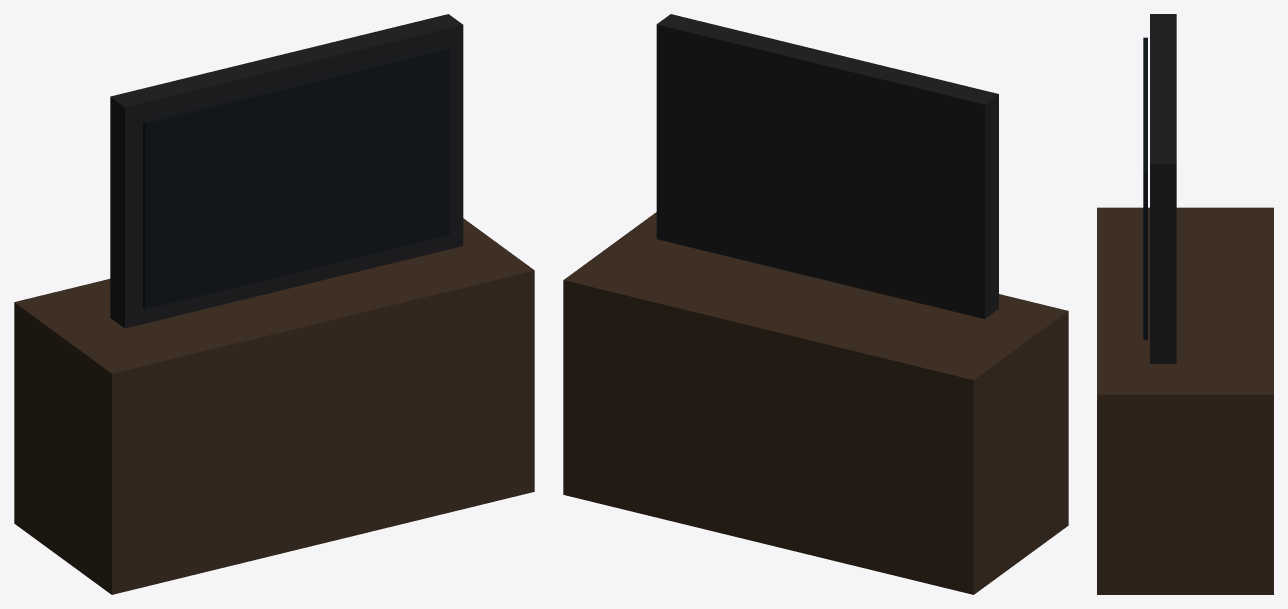
Rendered from PRP_TV_A.glb.
3 renders of one model, left to right at view 1: azimuth 30°, elevation 25°; view 2: azimuth 150°, elevation 25°; view 3: azimuth 270°, elevation 25°, orthographic. The views are drawn at different scales.
Parts seen in each view (by area): view 1: PRP_TV_A_Stand, PRP_TV_A_Screen, PRP_TV_A_Body; view 2: PRP_TV_A_Stand, PRP_TV_A_Body; view 3: PRP_TV_A_Stand, PRP_TV_A_Body, PRP_TV_A_Screen.
Boxes of the visible parts, x1,y1,x2,y2 form: PRP_TV_A_Stand: (14,218,534,594); PRP_TV_A_Screen: (143,47,449,309); PRP_TV_A_Body: (110,14,463,328); PRP_TV_A_Stand: (563,212,1068,594); PRP_TV_A_Body: (656,14,998,318); PRP_TV_A_Stand: (1097,207,1273,594); PRP_TV_A_Body: (1150,14,1176,363); PRP_TV_A_Screen: (1143,37,1147,340).
Bounding box in the file's own units: 1 × 1.03 × 0.4.
